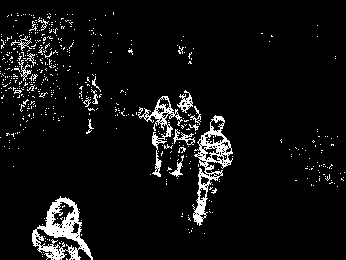person: (203, 113, 232, 221), (177, 90, 199, 179), (152, 94, 175, 178), (77, 72, 102, 137)
